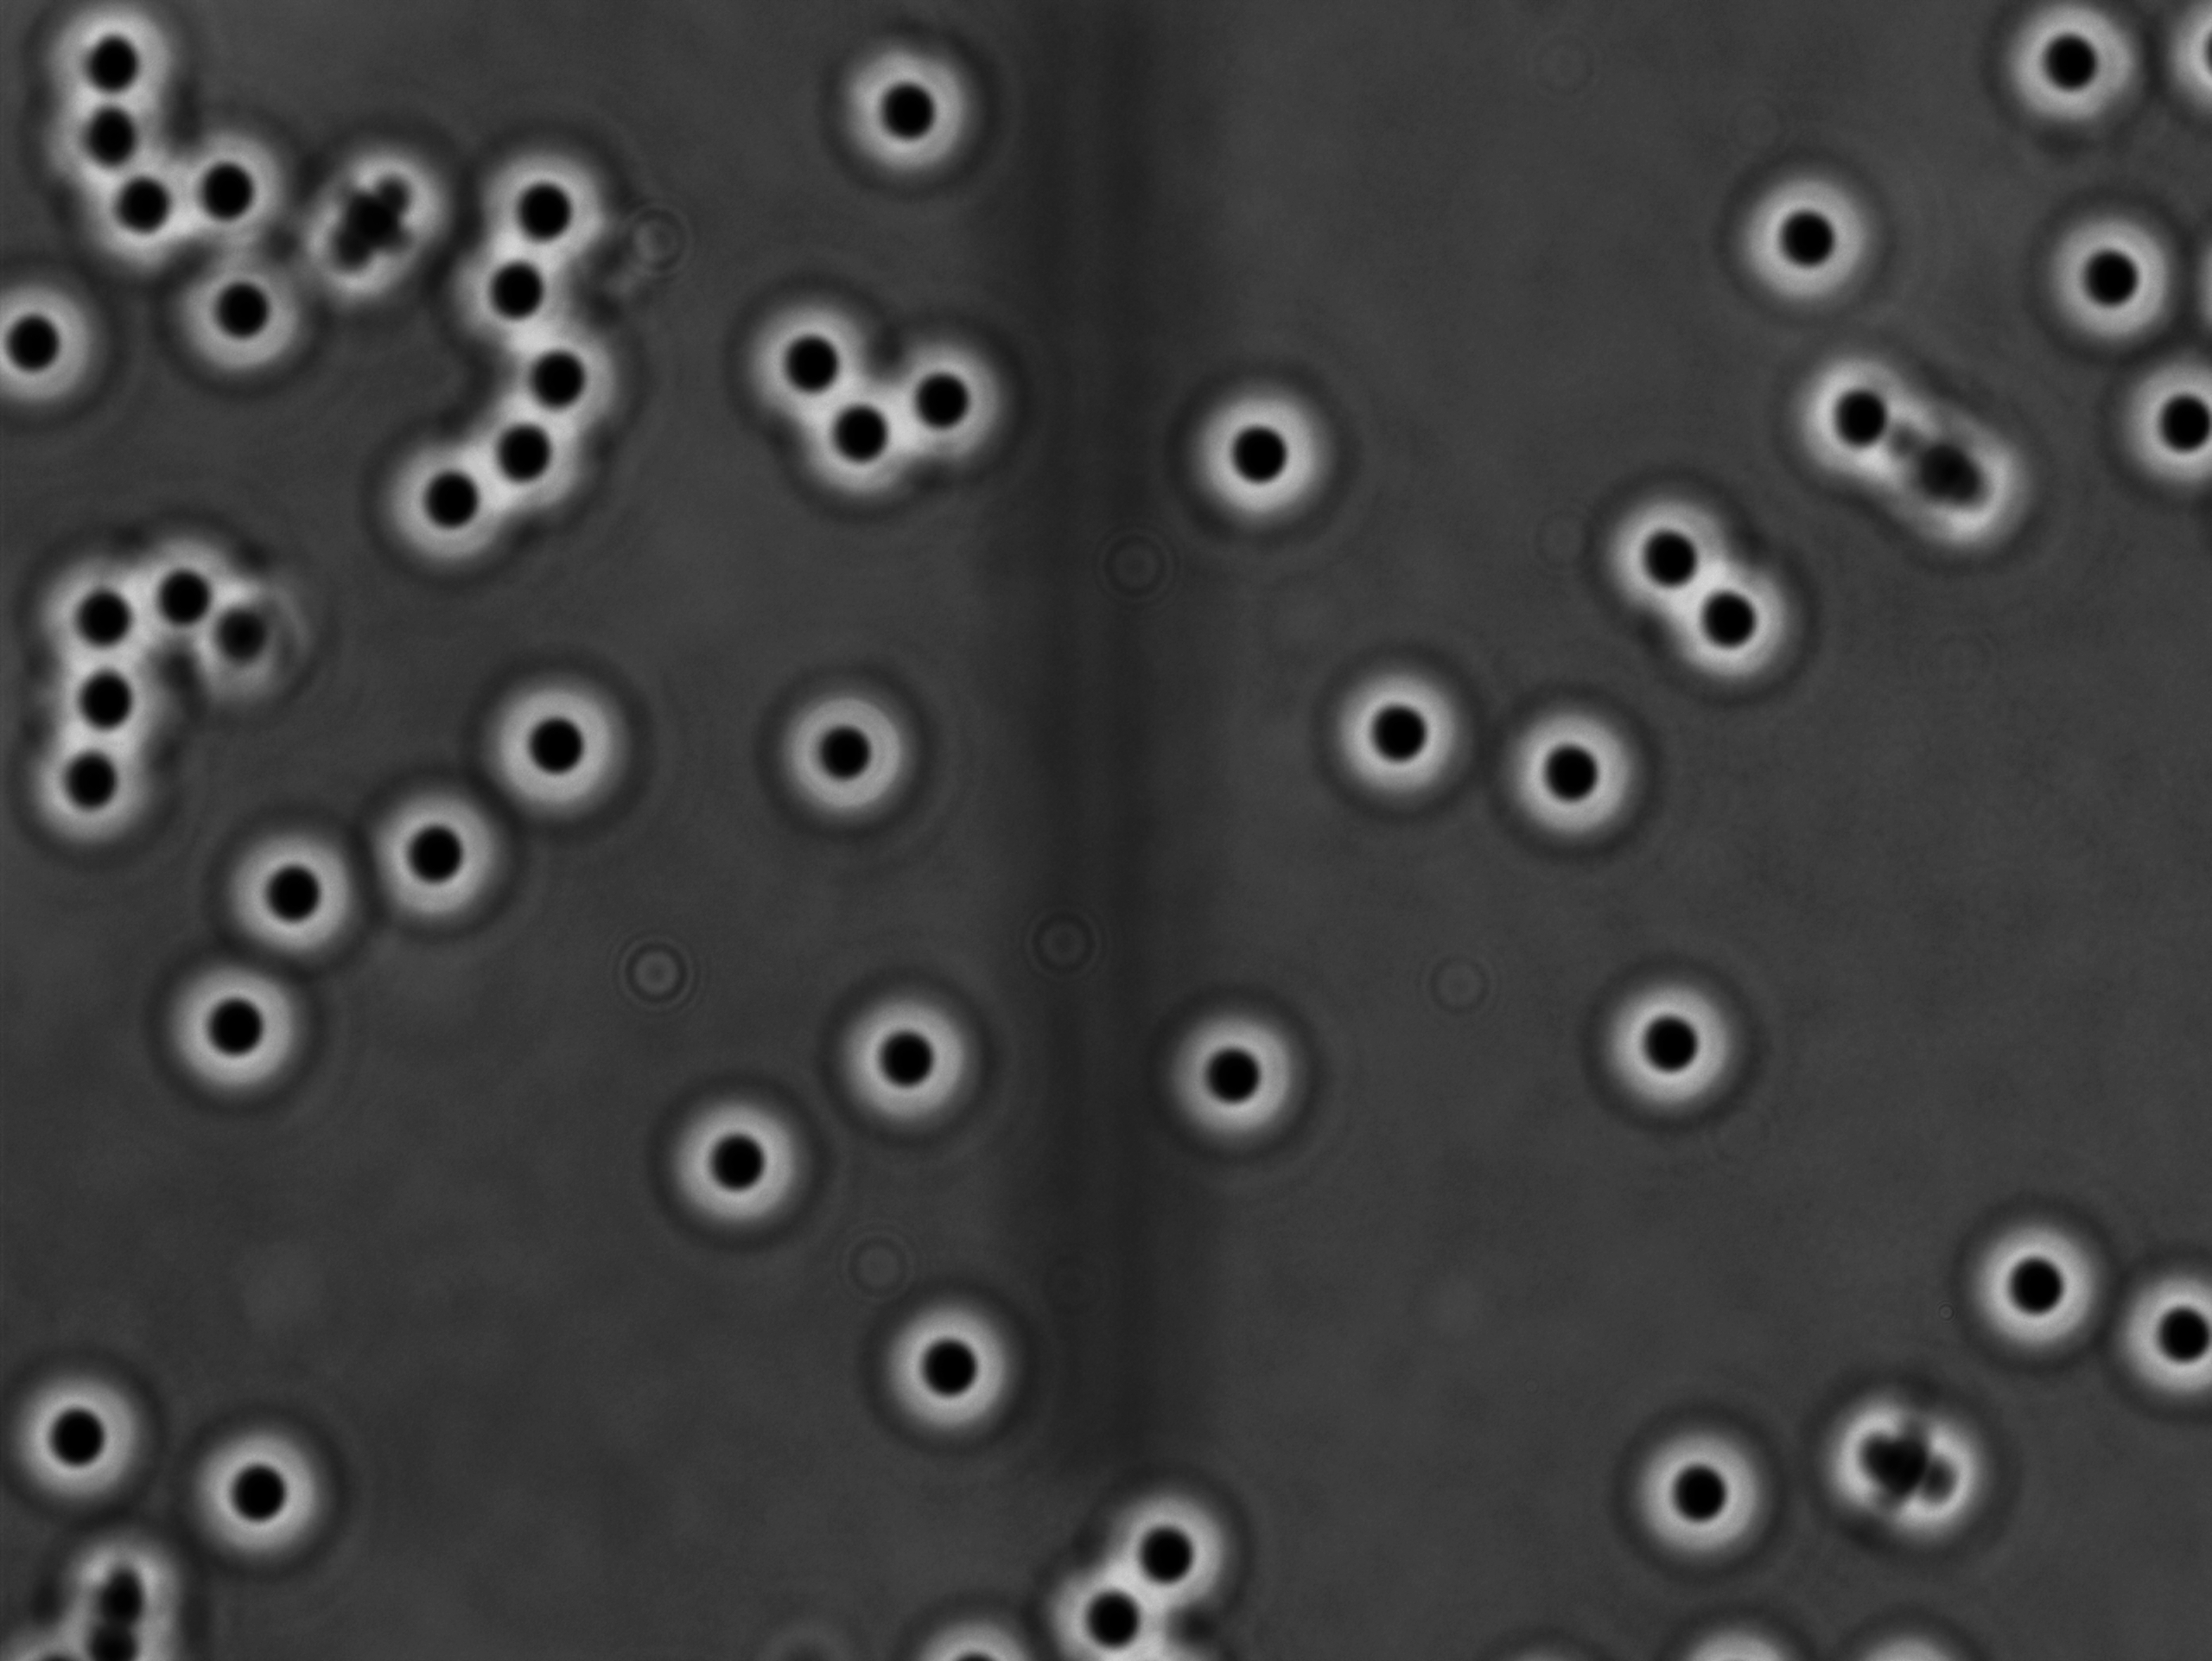depth:-60: (1694, 145, 1882, 330), (1952, 1186, 2128, 1380), (143, 923, 335, 1099), (2022, 178, 2200, 365), (649, 1080, 839, 1254), (1158, 982, 1338, 1160), (1586, 956, 1765, 1132), (823, 24, 998, 206), (1783, 325, 1970, 494), (1312, 635, 1479, 824), (813, 958, 993, 1132), (1174, 370, 1345, 550), (855, 1275, 1026, 1455), (1610, 1420, 1792, 1589), (473, 653, 652, 818), (733, 270, 904, 438), (755, 670, 921, 841), (1568, 466, 1744, 626), (206, 822, 387, 974), (351, 769, 523, 928), (180, 1405, 338, 1576), (16, 712, 192, 857), (1488, 701, 1649, 860), (1662, 550, 1828, 700), (867, 325, 1031, 473), (373, 426, 530, 578), (481, 133, 642, 281), (19, 551, 183, 689), (37, 612, 202, 748), (169, 244, 324, 389), (478, 318, 632, 461), (780, 368, 933, 504), (119, 525, 262, 660), (2128, 345, 2212, 508)
